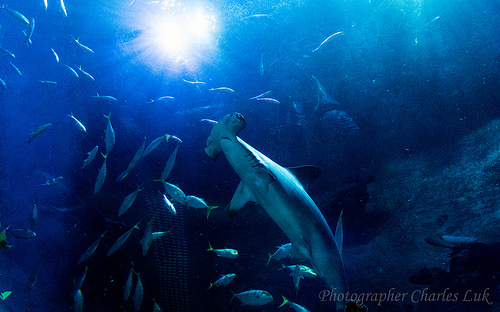shark: (178, 95, 372, 307)
